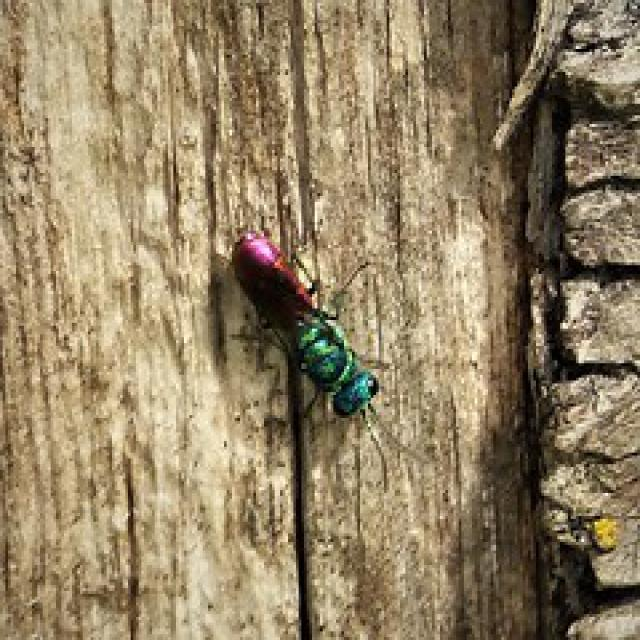Guepe: (182, 205, 438, 490)
